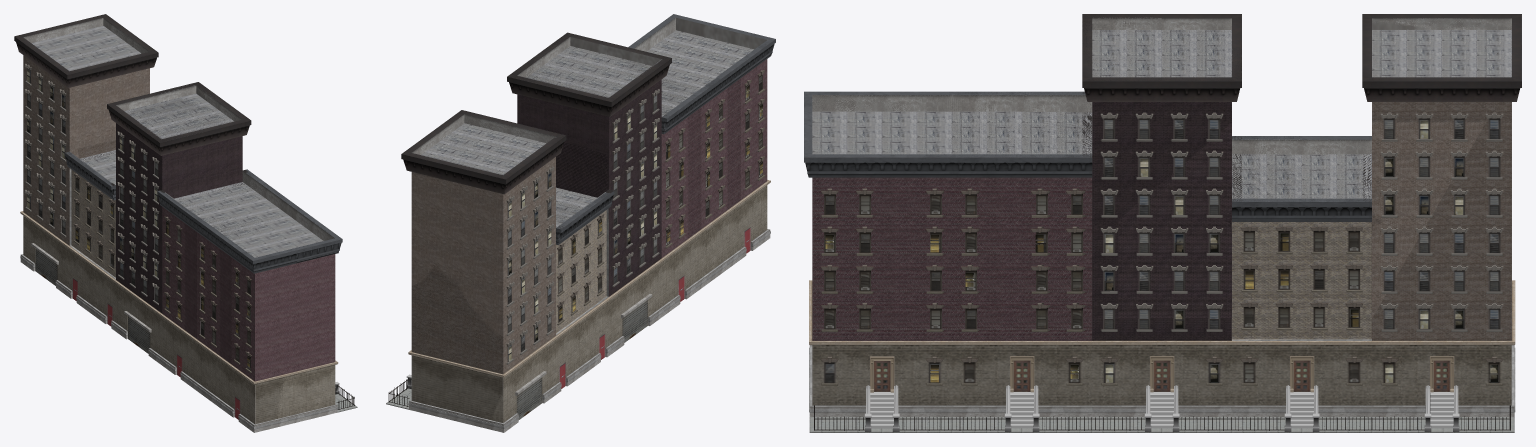
The model's file is redlight_8_build.FBX.
3 renders of one model, left to right at view 1: azimuth 30°, elevation 25°; view 2: azimuth 150°, elevation 25°; view 3: azimuth 270°, elevation 25°, orthographic. The views are drawn at different scales.
Parts seen in each view (by area): view 1: redlight_8_build, LOD_redlight_8_build, frame_window_8_redlight_1, LOD_em_win_redlight_8_build, fence_redlight_8_build; view 2: redlight_8_build, LOD_redlight_8_build, frame_window_8_redlight_1, LOD_em_win_redlight_8_build, fence_redlight_8_build; view 3: LOD_redlight_8_build, redlight_8_build, frame_window_8_redlight_1, fence_redlight_8_build, stairs_redlight_8_build, LOD_em_win_redlight_8_build, frame_door_8_redlight_1.
Part boxes in pixels (x1=…): redlight_8_build: x1=14, y1=14, x2=342, y2=432; LOD_redlight_8_build: x1=16, y1=18, x2=341, y2=424; frame_window_8_redlight_1: x1=24, y1=63, x2=251, y2=372; LOD_em_win_redlight_8_build: x1=27, y1=69, x2=249, y2=367; fence_redlight_8_build: x1=335, y1=385, x2=357, y2=412; redlight_8_build: x1=401, y1=14, x2=775, y2=432; LOD_redlight_8_build: x1=403, y1=17, x2=774, y2=419; frame_window_8_redlight_1: x1=506, y1=70, x2=765, y2=364; LOD_em_win_redlight_8_build: x1=508, y1=85, x2=762, y2=360; fence_redlight_8_build: x1=386, y1=379, x2=411, y2=409; LOD_redlight_8_build: x1=805, y1=14, x2=1520, y2=405; redlight_8_build: x1=804, y1=14, x2=1521, y2=416; frame_window_8_redlight_1: x1=821, y1=112, x2=1503, y2=385; fence_redlight_8_build: x1=809, y1=405, x2=1514, y2=432; stairs_redlight_8_build: x1=864, y1=385, x2=1459, y2=431; LOD_em_win_redlight_8_build: x1=825, y1=120, x2=1498, y2=382; frame_door_8_redlight_1: x1=870, y1=356, x2=1454, y2=392.
Bounding box in the file's own units: 528 × 1055 × 2020.
